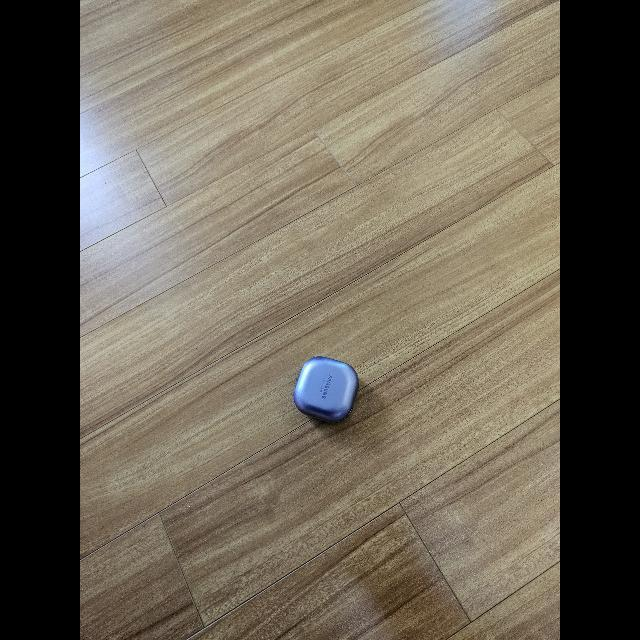buds-pro: (294, 354, 358, 426)
